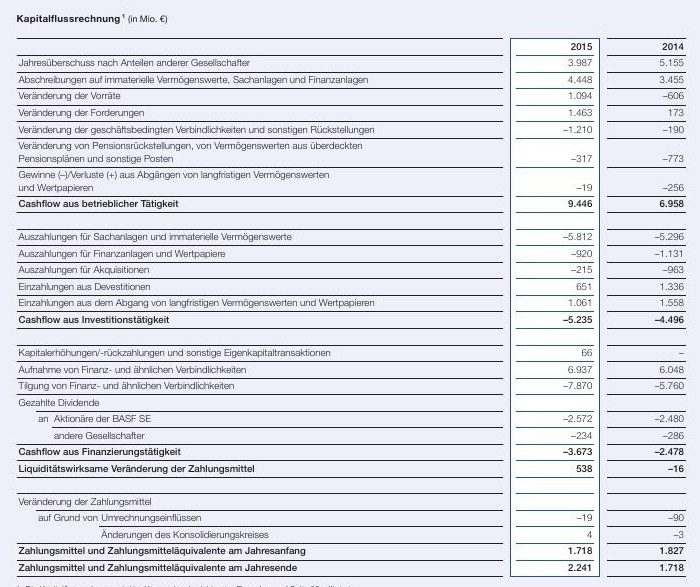table: (0, 0, 700, 587)
